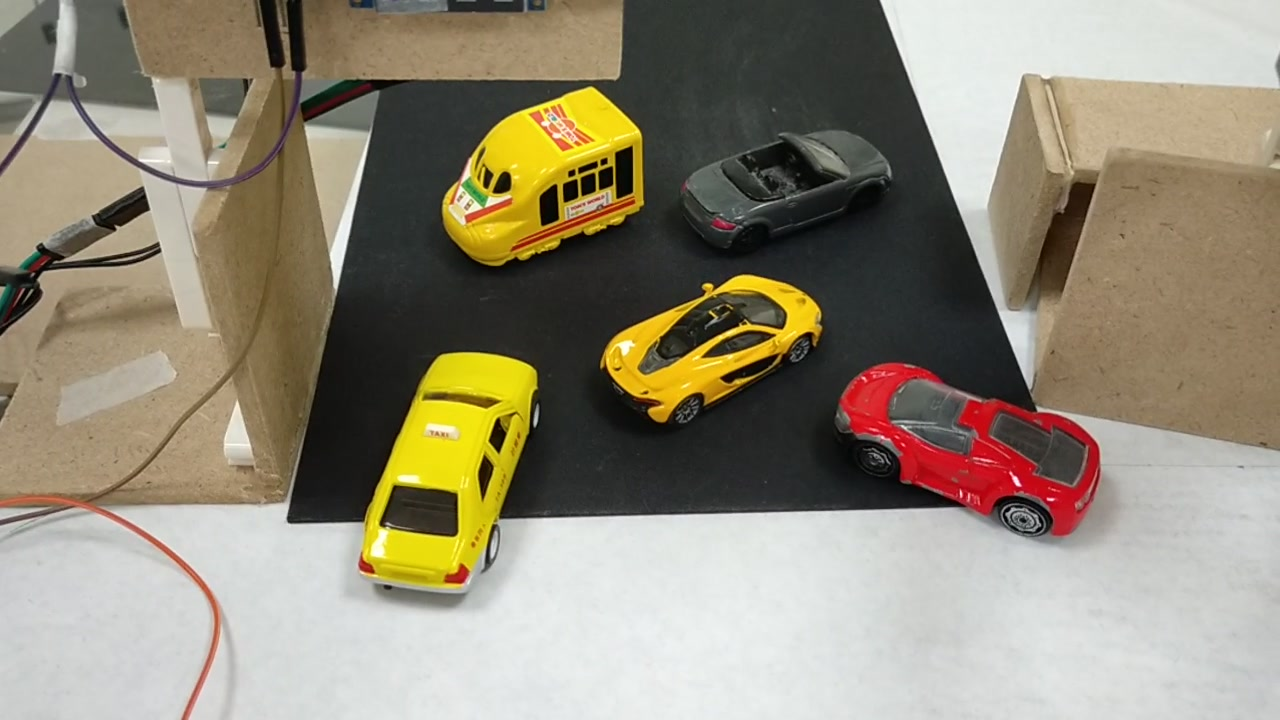car: (830, 354, 1102, 553), (356, 350, 527, 592), (599, 279, 828, 415), (666, 118, 896, 250)
